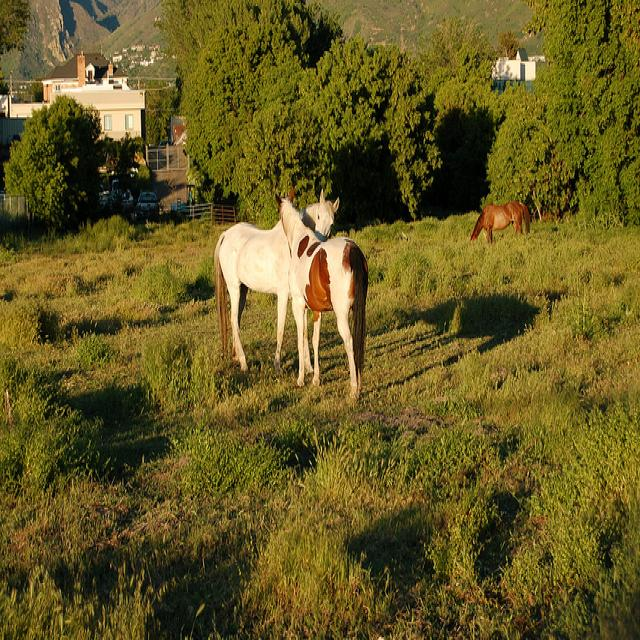Vehicle: (136, 190, 157, 210)
